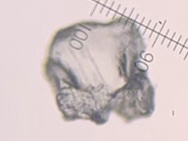microplastic: (40, 14, 158, 129)
